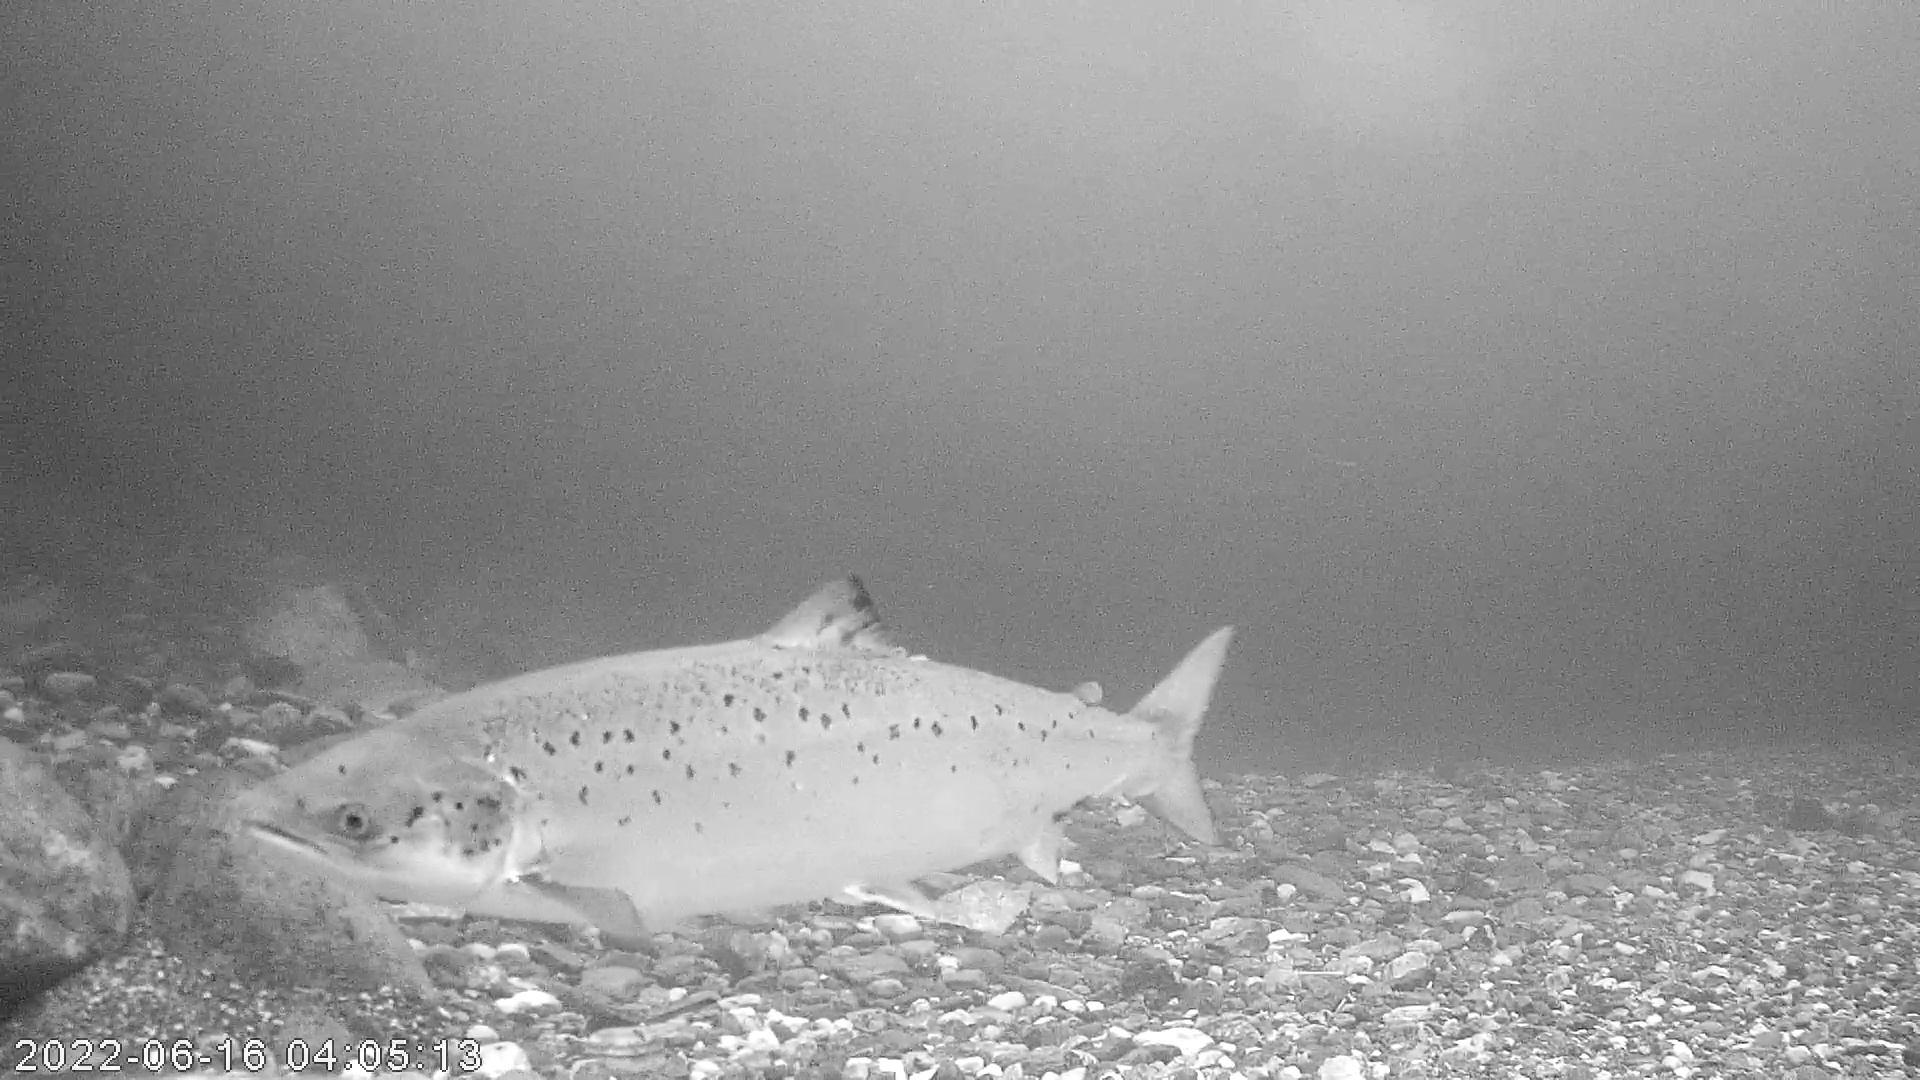salmon: (228, 568, 1236, 940)
